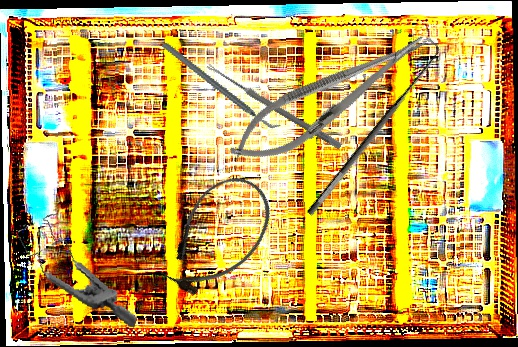Cannula: (146, 161, 288, 312)
Chopper: (159, 12, 283, 159)
Hook Surgical: (293, 34, 450, 218)
Needle Holder: (218, 17, 440, 180)
Speculum: (3, 206, 155, 328)
Surgical Spoon: (205, 62, 343, 150)
